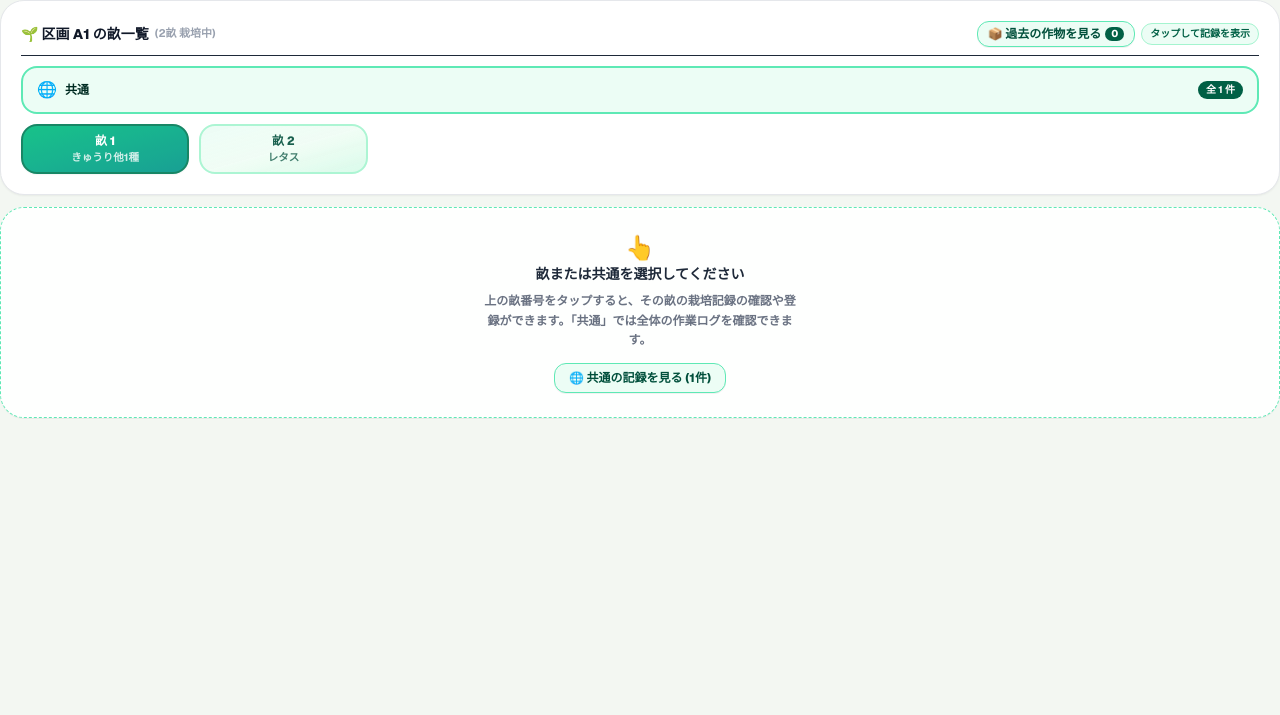
Test case: StudentFarmRecordView - 登録済みタスクのベッド変更機能 & 共通タイムライン分離検証 › 畝に複数品種の記録がある場合（混植）、ボタンに「他◯種」が表示され、見出しに全品種が表示され、品種タブが出現すること
Expected: the text "きゅうり他1種" is shown, [71,151,139,164]
Note: 畝1ボタンをタップ
Click the button "畝 1 きゅうり他1種".
click(105, 149)  # box [21,124,189,174]
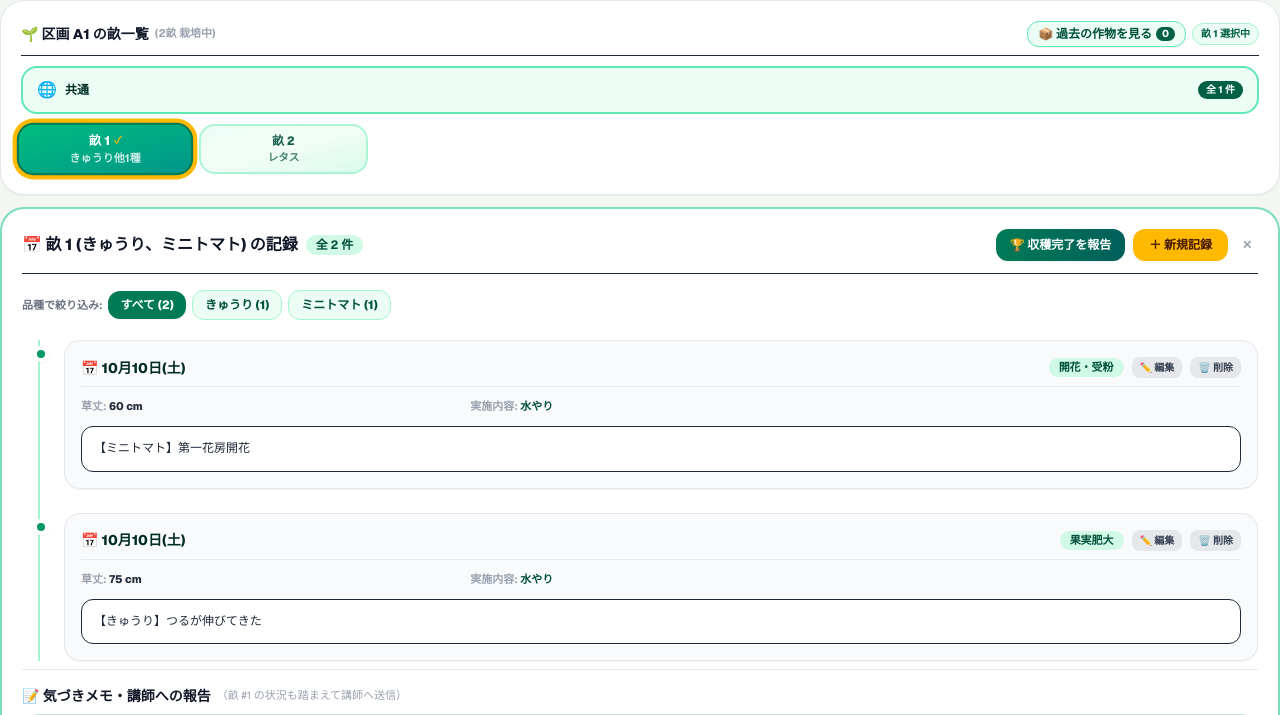
Expected: the heading "📅 畝 1 (きゅうり、ミニトマト) の記録" is shown, [22,233,298,257]
Expected: the button "すべて (2)" is shown, [108,291,186,319]
Expected: the button "きゅうり (1)" is shown, [192,290,282,320]
